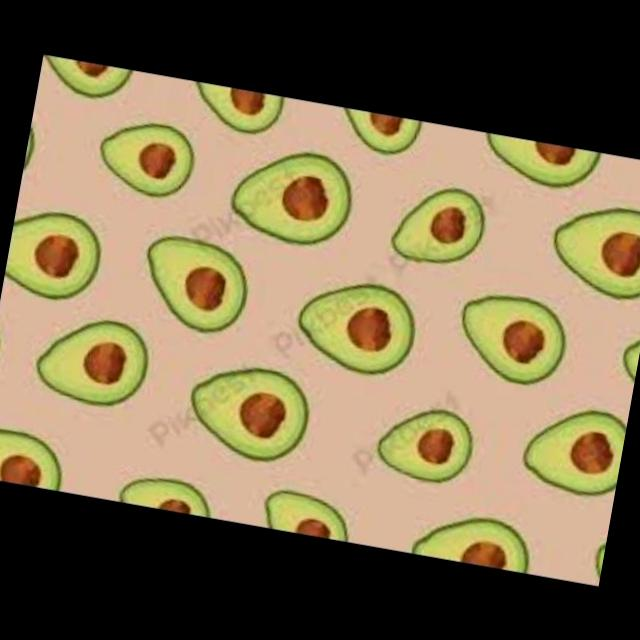Avocado: (204, 119, 370, 252), (156, 342, 326, 470), (271, 258, 440, 377), (11, 302, 162, 434), (428, 261, 576, 394), (335, 387, 485, 508), (523, 160, 640, 312), (116, 221, 260, 340), (374, 485, 542, 575), (374, 170, 498, 284), (503, 394, 626, 504), (82, 106, 205, 212), (0, 201, 102, 314), (451, 128, 597, 198), (161, 77, 316, 139), (232, 481, 360, 544), (68, 462, 210, 518), (321, 106, 426, 170), (0, 427, 81, 495), (36, 54, 128, 100)
